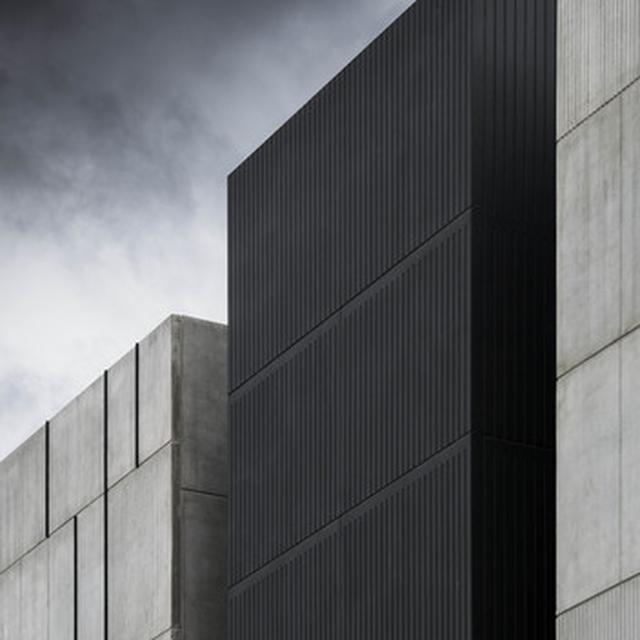building: (225, 0, 553, 640), (3, 315, 225, 640)
